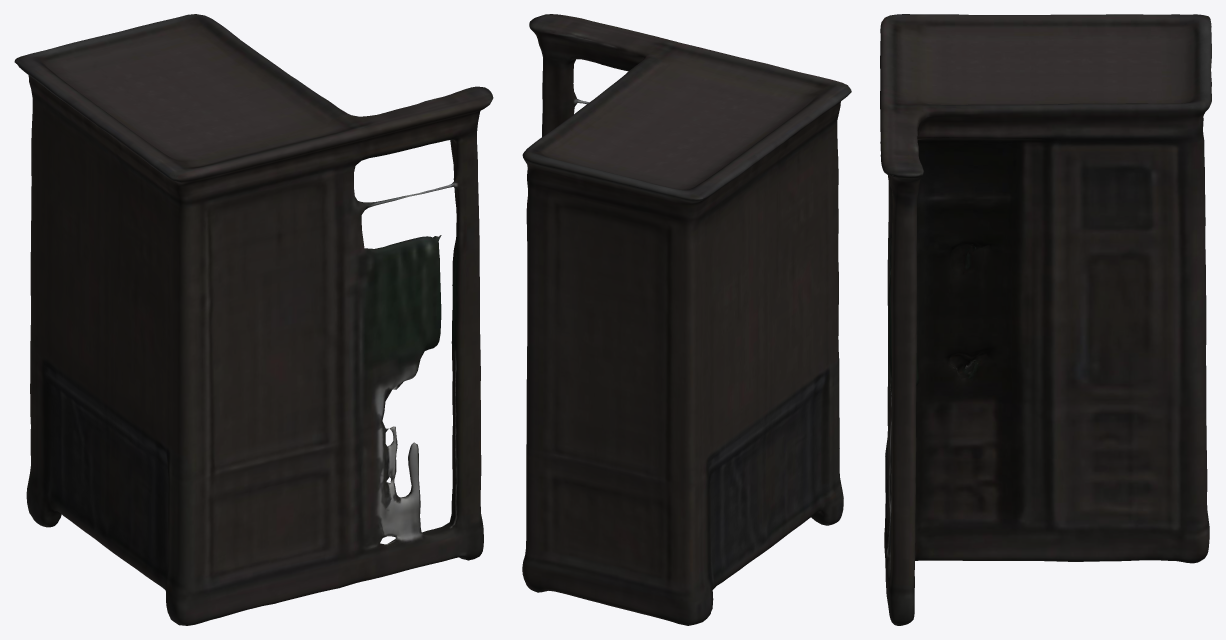
The model's file is medieval_wardrobe__.fbx.
The picture shows the model from 3 angles, left to right: view 1: azimuth 30°, elevation 25°; view 2: azimuth 150°, elevation 25°; view 3: azimuth 270°, elevation 25°; orthographic projection. The views are drawn at different scales.
Parts seen in each view (by area): view 1: mesh; view 2: mesh; view 3: mesh.
Boxes of the visible parts, x1,y1,x2,y2 form: mesh: [14, 14, 493, 625]; mesh: [522, 14, 851, 625]; mesh: [880, 14, 1211, 625].
Size of the model in its own units: 74.09 by 99.9 by 64.86.
